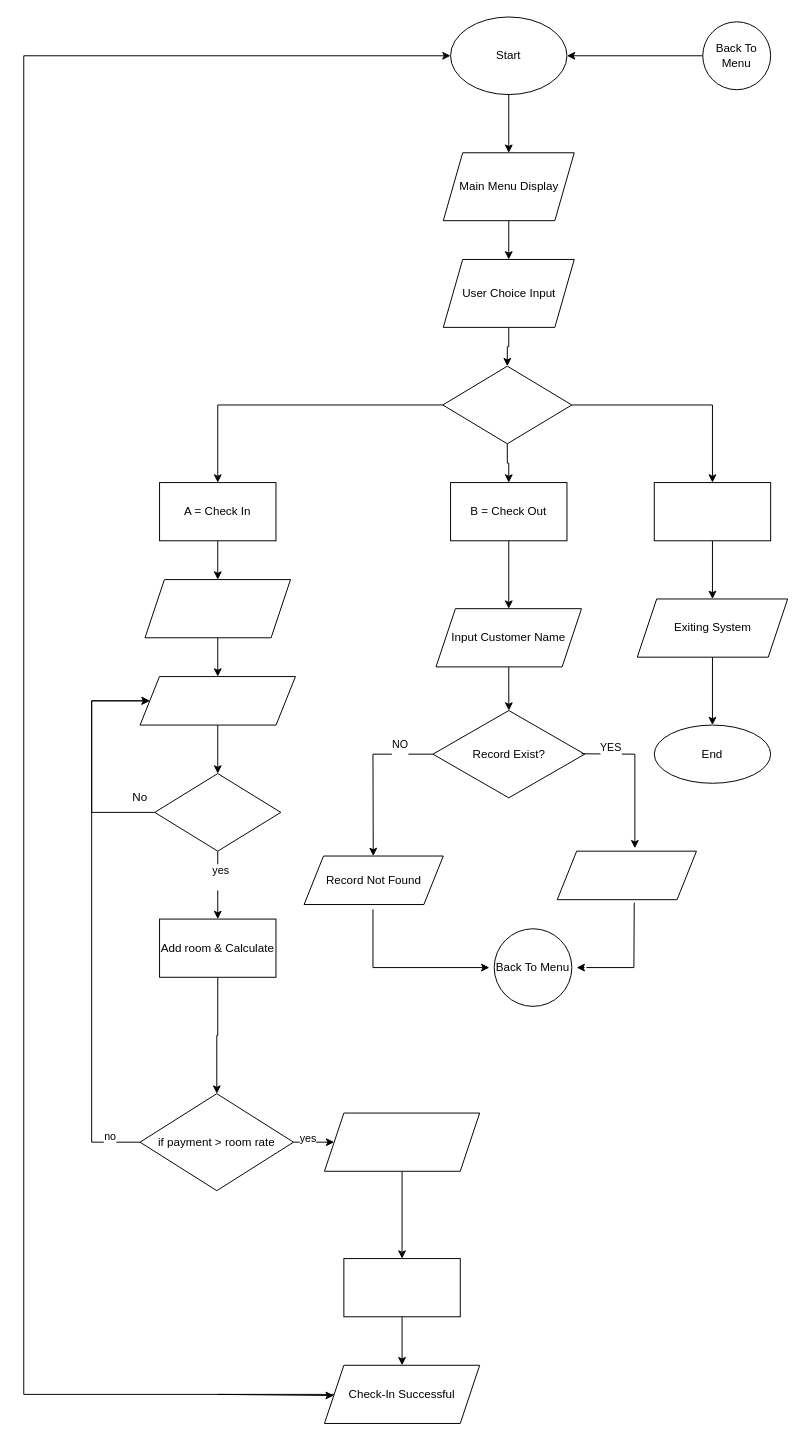
Some shapes in this 805 by 1440 pixel diagram are drawn without their labels. The centre of each missing label's shape, as x and y in pixels:
"C = Exit" belongs at (712,511).
"Calculate Balance" belongs at (401,1287).
"Choice = A/B/C" belongs at (507,404).
"Display Receipt" belongs at (626,875).
"Display Room Menu" belongs at (217,608).
"Input Customer Details" belongs at (217,700).
"Input Down payment" belongs at (401,1141).
"Room Type Valid" belongs at (217,812).
